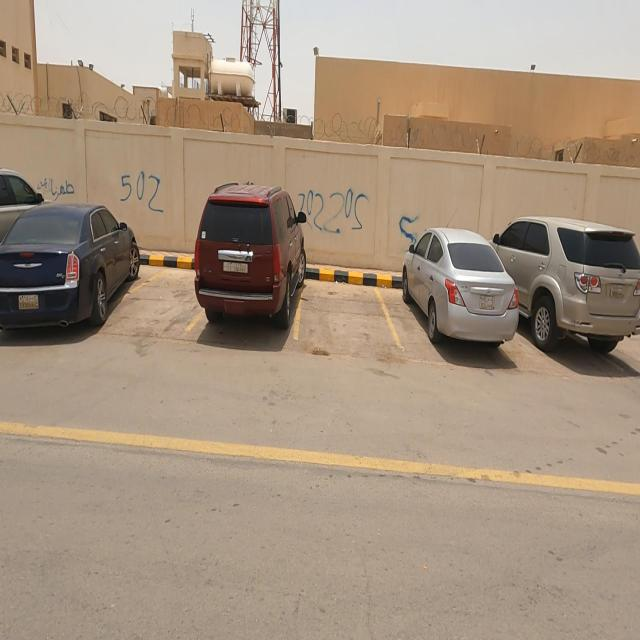Graffiti: (308, 189, 371, 234), (120, 171, 165, 216), (39, 176, 75, 202), (396, 212, 420, 246), (297, 188, 308, 212)
